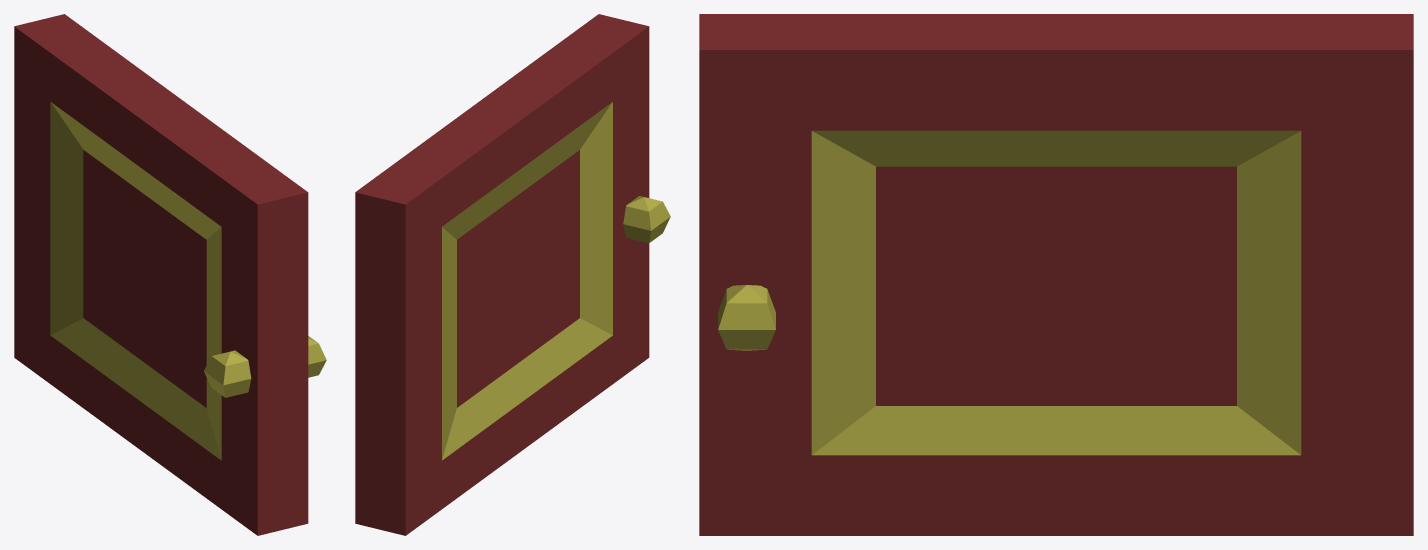
File: Door_mod.fbx
3 views of the same model, side by side, from view 1: azimuth 30°, elevation 25°; view 2: azimuth 150°, elevation 25°; view 3: azimuth 270°, elevation 25° (orthographic). The views are drawn at different scales.
Visible parts, largest first — view 1: pCube2, pSphere1, pSphere3; view 2: pCube2, pSphere1; view 3: pCube2, pSphere3.
Boxes of the visible parts, left/top/right/bottom form: pCube2: left=14, top=14, right=308, bottom=535; pSphere1: left=204, top=350, right=251, bottom=397; pSphere3: left=308, top=336, right=326, bottom=377; pCube2: left=355, top=14, right=649, bottom=535; pSphere1: left=623, top=196, right=670, bottom=243; pCube2: left=699, top=14, right=1413, bottom=535; pSphere3: left=718, top=285, right=775, bottom=350.
Size of the model in its own units: 2.6 by 7.96 by 10.61.
